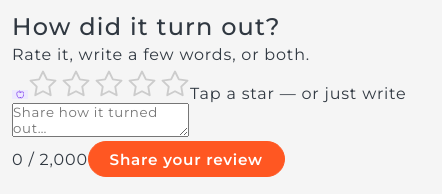
Test: ReviewComposer › live counter: shows the min-length nudge under 5 chars, then the running count
Type "Hey" into the text box.
click(100, 120); type("Hey")  # box [12,103,189,137]
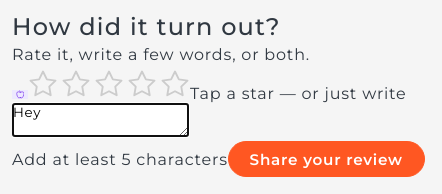
Expected: the text "Add at least 5 characters" is shown, [12,150,228,169]
Type " there" into the text box.
click(100, 120); type(" there")  # box [12,103,189,137]
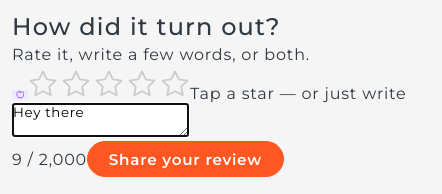
Expected: the text "9 / 2,000" is shown, [12,150,87,169]
